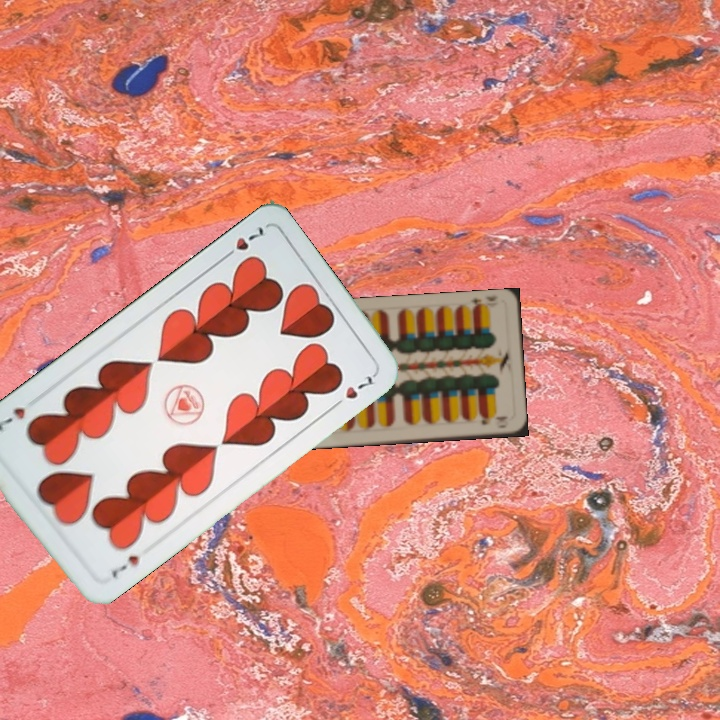E10: (467, 292, 501, 313)
H7: (217, 222, 267, 263), (107, 550, 146, 581)
